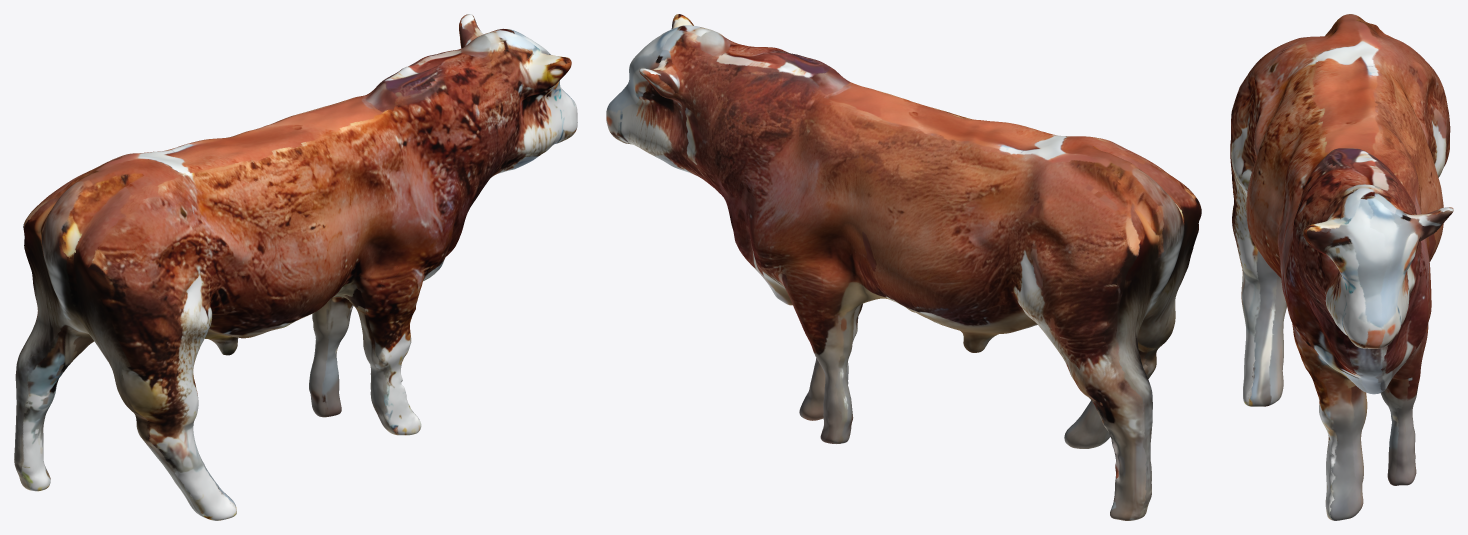
Rendered from joven.glb.
The picture shows the model from 3 angles, left to right: view 1: azimuth 30°, elevation 25°; view 2: azimuth 150°, elevation 25°; view 3: azimuth 270°, elevation 25°; orthographic projection. The views are drawn at different scales.
Visible parts, largest first — view 1: mesh; view 2: mesh; view 3: mesh.
Part boxes in pixels (left/top/right/bottom): mesh: left=14, top=14, right=577, bottom=520; mesh: left=606, top=14, right=1201, bottom=520; mesh: left=1230, top=14, right=1453, bottom=520.
Bounding box in the file's own units: 1.72 × 1.1 × 0.5843.
1 material, 1 textured.
